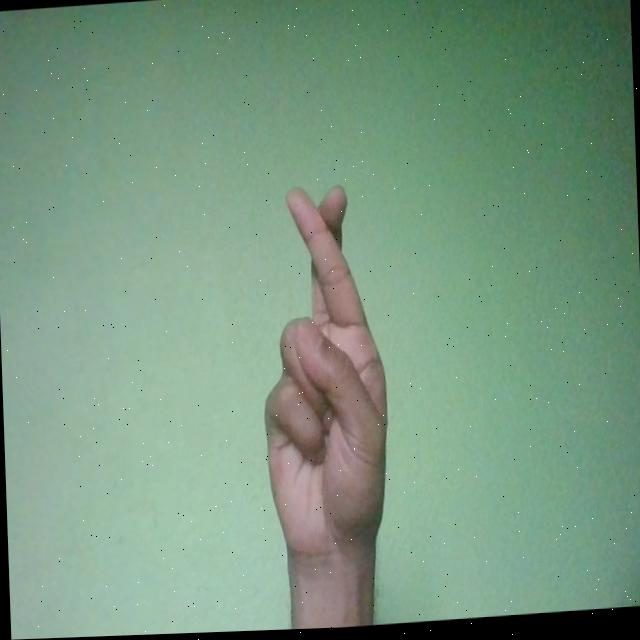Good Luck: (255, 181, 394, 573)
